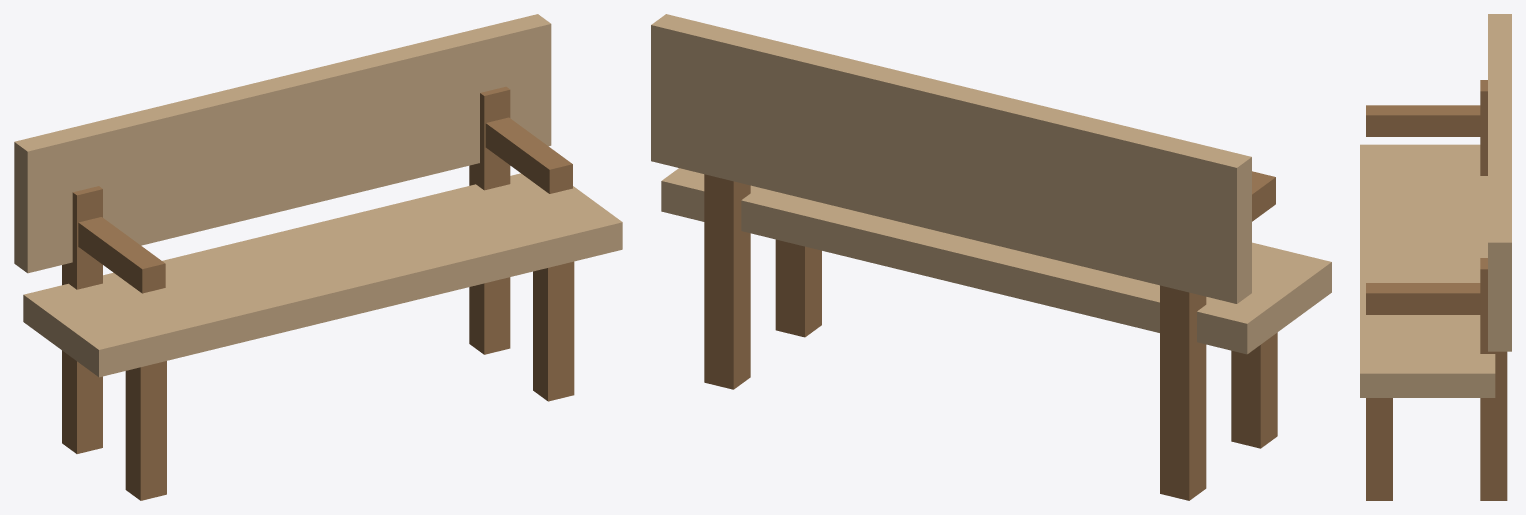
Rendered from ASTX_PROP_BENCH.glb.
3 views of the same model, side by side, from view 1: azimuth 30°, elevation 25°; view 2: azimuth 150°, elevation 25°; view 3: azimuth 270°, elevation 25° (orthographic). The views are drawn at different scales.
Visible parts, largest first — view 1: ASTX_PROP_BENCH_back, ASTX_PROP_BENCH_seat, ASTX_PROP_BENCH_legB-0.7, ASTX_PROP_BENCH_legF0.7, ASTX_PROP_BENCH_legF-0.7, ASTX_PROP_BENCH_legB0.7, ASTX_PROP_BENCH_arm0.7, ASTX_PROP_BENCH_arm-0.7; view 2: ASTX_PROP_BENCH_back, ASTX_PROP_BENCH_seat, ASTX_PROP_BENCH_legB0.7, ASTX_PROP_BENCH_legB-0.7, ASTX_PROP_BENCH_legF-0.7, ASTX_PROP_BENCH_legF0.7, ASTX_PROP_BENCH_arm-0.7; view 3: ASTX_PROP_BENCH_seat, ASTX_PROP_BENCH_back, ASTX_PROP_BENCH_legB0.7, ASTX_PROP_BENCH_arm-0.7, ASTX_PROP_BENCH_arm0.7, ASTX_PROP_BENCH_legF0.7, ASTX_PROP_BENCH_legB-0.7.
Boxes of the visible parts, left/top/right/bottom form: ASTX_PROP_BENCH_back: left=14, top=14, right=551, bottom=273; ASTX_PROP_BENCH_seat: left=23, top=173, right=622, bottom=377; ASTX_PROP_BENCH_legB-0.7: left=62, top=186, right=102, bottom=453; ASTX_PROP_BENCH_legF0.7: left=533, top=261, right=574, bottom=401; ASTX_PROP_BENCH_legF-0.7: left=125, top=361, right=166, bottom=500; ASTX_PROP_BENCH_legB0.7: left=469, top=86, right=510, bottom=354; ASTX_PROP_BENCH_arm0.7: left=485, top=117, right=572, bottom=193; ASTX_PROP_BENCH_arm-0.7: left=78, top=217, right=165, bottom=293; ASTX_PROP_BENCH_back: left=651, top=14, right=1251, bottom=303; ASTX_PROP_BENCH_seat: left=661, top=168, right=1331, bottom=354; ASTX_PROP_BENCH_legB0.7: left=704, top=174, right=750, bottom=389; ASTX_PROP_BENCH_legB-0.7: left=1160, top=285, right=1206, bottom=500; ASTX_PROP_BENCH_legF-0.7: left=1231, top=332, right=1277, bottom=448; ASTX_PROP_BENCH_legF0.7: left=775, top=239, right=821, bottom=337; ASTX_PROP_BENCH_arm-0.7: left=1252, top=171, right=1275, bottom=221; ASTX_PROP_BENCH_seat: left=1360, top=144, right=1495, bottom=397; ASTX_PROP_BENCH_back: left=1488, top=14, right=1511, bottom=351; ASTX_PROP_BENCH_legB0.7: left=1480, top=258, right=1507, bottom=500; ASTX_PROP_BENCH_arm-0.7: left=1366, top=105, right=1480, bottom=136; ASTX_PROP_BENCH_arm0.7: left=1366, top=283, right=1480, bottom=314; ASTX_PROP_BENCH_legF0.7: left=1366, top=398, right=1392, bottom=500; ASTX_PROP_BENCH_legB-0.7: left=1480, top=80, right=1487, bottom=175.
Bounding box in the file's own units: 1.8 × 1.02 × 0.505.
